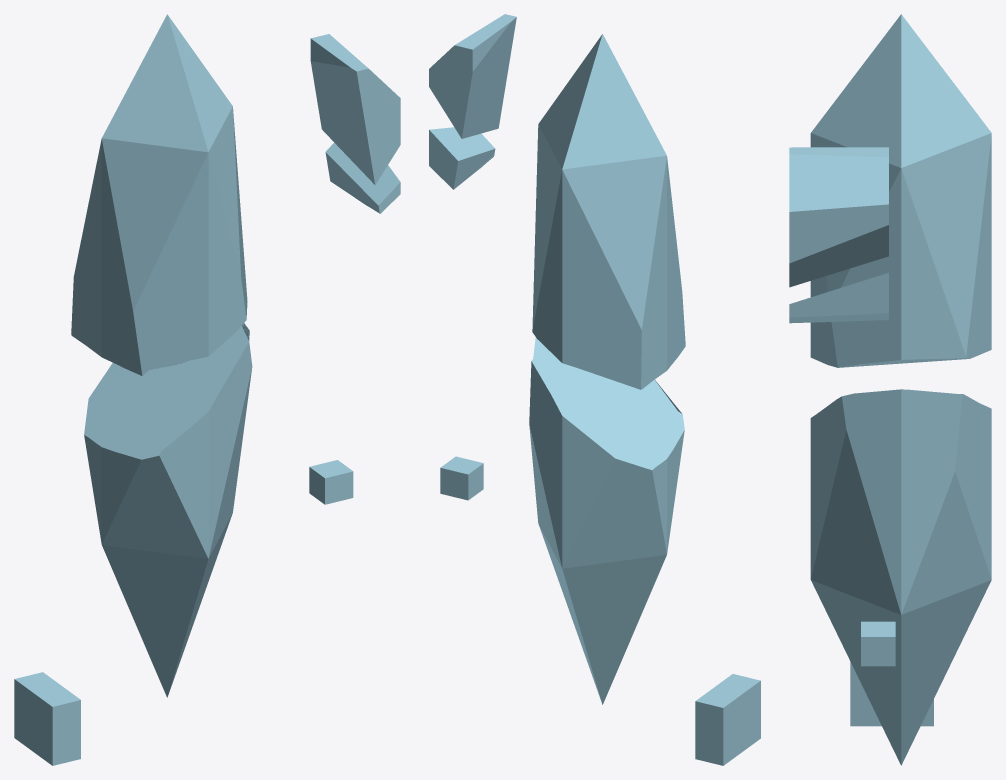
Rendered from secondCrystal.glb.
The picture shows the model from 3 angles, left to right: view 1: azimuth 30°, elevation 25°; view 2: azimuth 150°, elevation 25°; view 3: azimuth 270°, elevation 25°; orthographic projection. The views are drawn at different scales.
Parts seen in each view (by area): view 1: MiniCrystal, Cube, Cube.002, Cube.001; view 2: MiniCrystal, Cube, Cube.002, Cube.001; view 3: MiniCrystal, Cube, Cube.001, Cube.002.
Boxes of the visible parts, x1,y1,x2,y2 form: MiniCrystal: [71, 14, 252, 697]; Cube: [310, 34, 400, 213]; Cube.002: [14, 672, 80, 765]; Cube.001: [309, 460, 353, 504]; MiniCrystal: [529, 34, 685, 704]; Cube: [429, 14, 516, 189]; Cube.002: [695, 674, 760, 765]; Cube.001: [440, 456, 483, 500]; MiniCrystal: [810, 14, 991, 765]; Cube: [789, 147, 888, 323]; Cube.001: [861, 621, 895, 666]; Cube.002: [850, 662, 933, 726].
Bounding box in the file's own units: 3.19 × 6.67 × 1.59.
